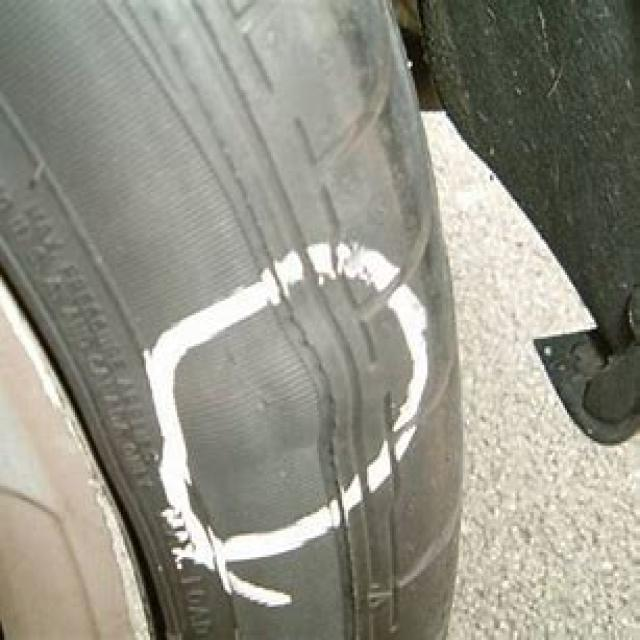Bulge: (149, 278, 432, 487)
